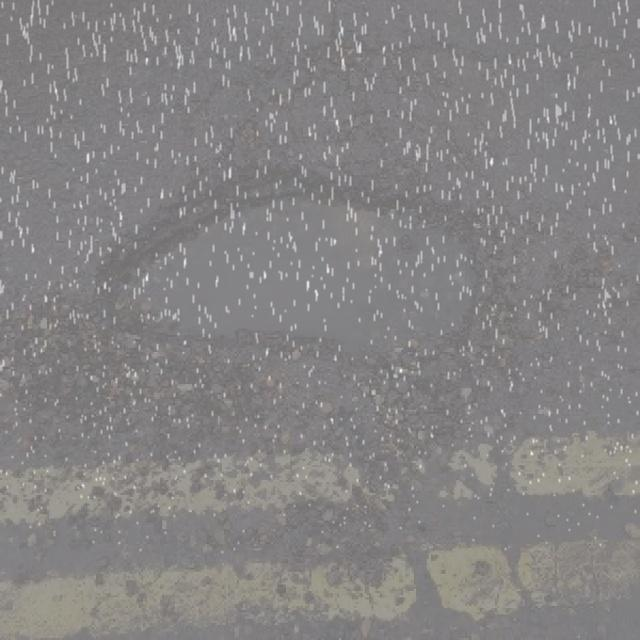Pothole: (74, 172, 524, 372)
